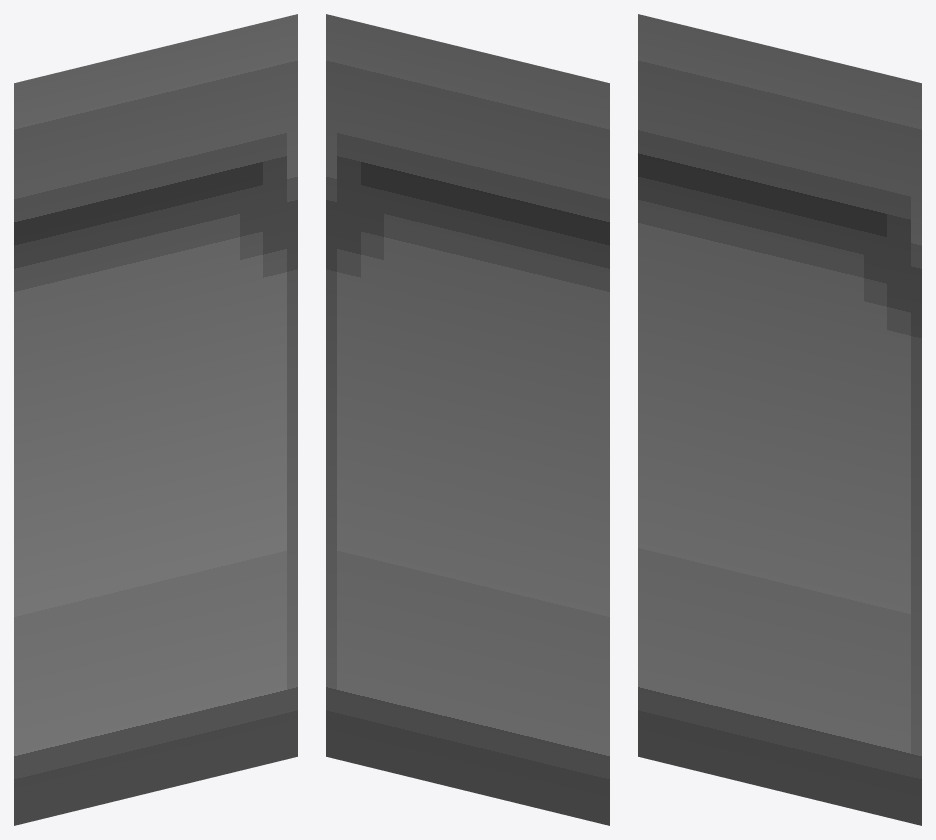
3 renders of one model, left to right at view 1: azimuth 30°, elevation 25°; view 2: azimuth 150°, elevation 25°; view 3: azimuth 330°, elevation 25°, orthographic.
Size of the model in its own units: 1 by 2.5 by 0.
1 material, 1 textured.
